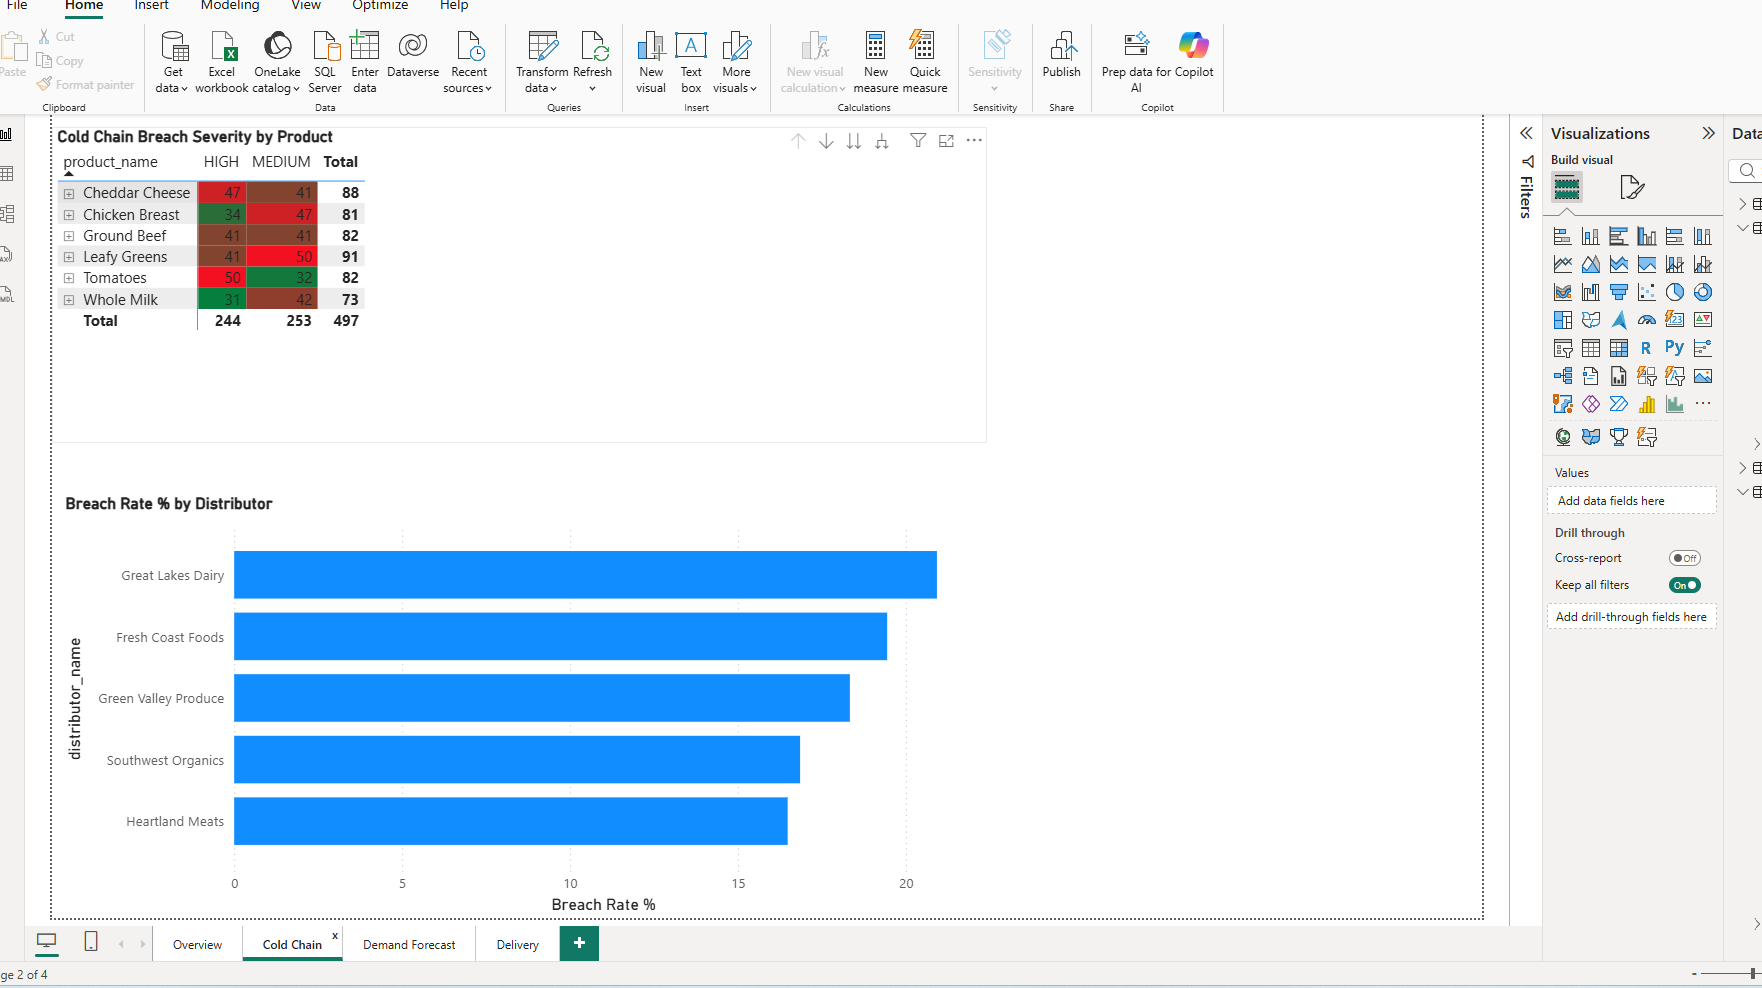

This screenshot's page, from the dashboard's own definition file:
{"tool":"powerbi","page":{"name":"Cold Chain","canvas":[1280,720],"ordinal":1},"visuals":[{"type":"pivotTable","title":"Cold Chain Breach Severity by Product","fields":{"Rows":["cold_chain_events Fsupply chain Dashboard.product_name","cold_chain_events Fsupply chain Dashboard.breach"],"Columns":["cold_chain_events Fsupply chain Dashboard.breach_severity"],"Values":["CountNonNull(cold_chain_events Fsupply chain Dashboard.breach)"]},"box":[0,11.3,837.2,283.5],"z":0},{"type":"clusteredBarChart","title":"Breach Rate % by Distributor","fields":{"Category":["cold_chain_events Fsupply chain Dashboard.distributor_name"],"Y":["inventory_waste Food supply chain Dashboard.Breach Rate %"]},"box":[7.6,340.2,829.6,379.8],"z":1000}]}

Visuals, with their boxes on the page's 1280x720 design canvas (x1, y1, x2, y2). These are canvas units, not pixel positions in the 1762x988 screenshot, which may show the page scaled, cropped or inside an application window:
"Cold Chain Breach Severity by Product" pivotTable: l=0, t=11, r=837, b=295
"Breach Rate % by Distributor" clusteredBarChart: l=8, t=340, r=837, b=720
